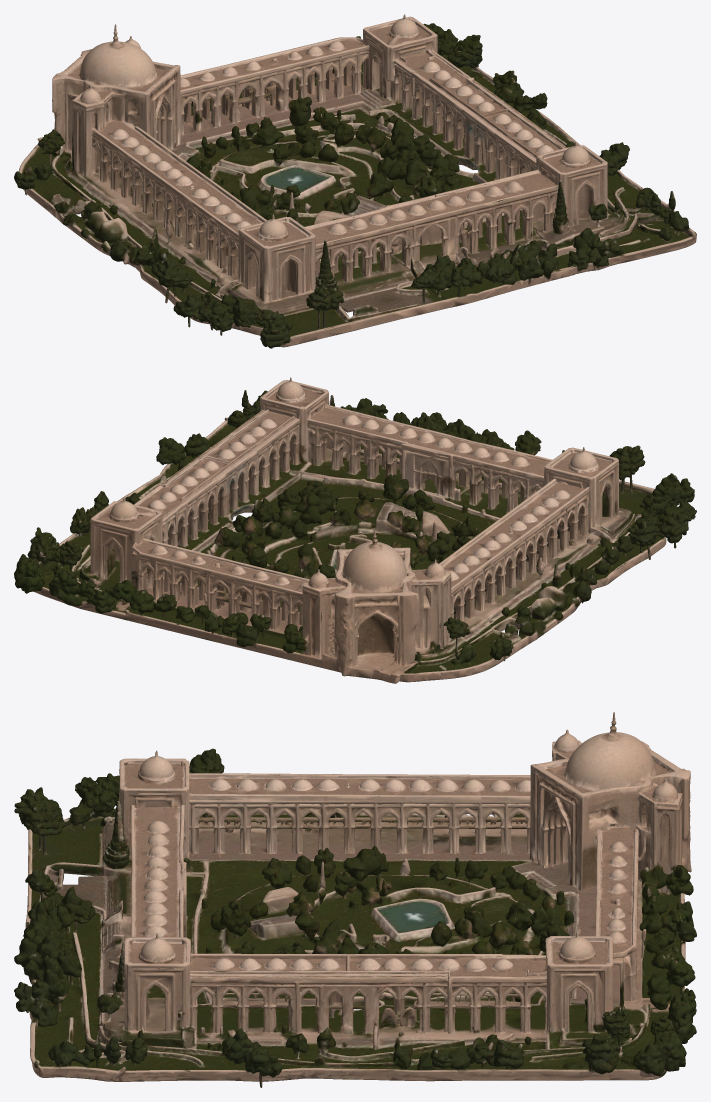
Rendered from courtyard_complex.glb.
3 views of the same model, one above another, from view 1: azimuth 30°, elevation 25°; view 2: azimuth 150°, elevation 25°; view 3: azimuth 270°, elevation 25° (orthographic). The views are drawn at different scales.
Size of the model in its own units: 76.88 by 19.6 by 74.75.
1 material, 1 textured.
